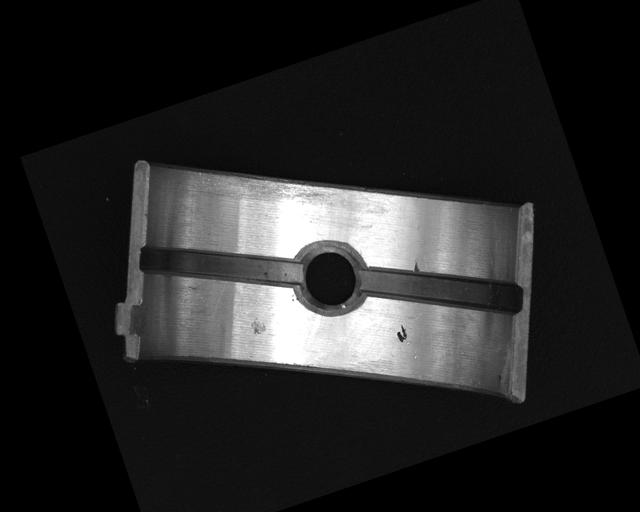blot: (392, 321, 409, 345)
bruise: (249, 315, 268, 337), (409, 260, 421, 274)
gap: (356, 225, 523, 355), (137, 201, 304, 325)
hole: (285, 231, 374, 324)
scratch: (180, 125, 349, 246)
